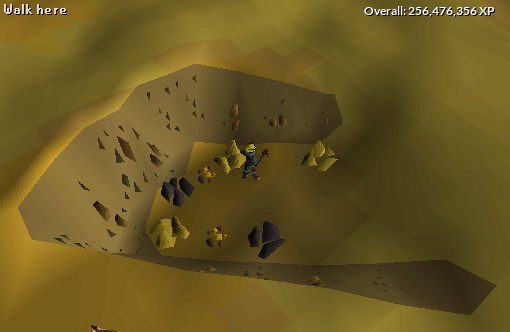depleted: (240, 216, 322, 270), (159, 166, 200, 210)
gold: (142, 213, 200, 251), (204, 138, 251, 179), (295, 135, 340, 177)
